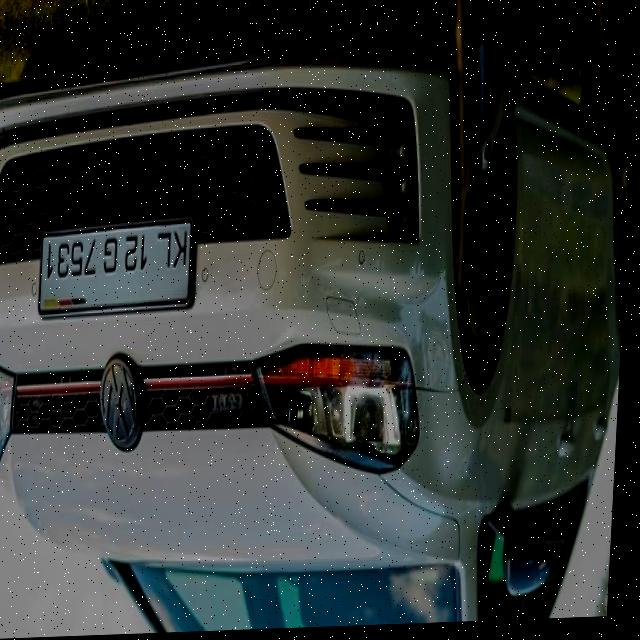plate: (43, 225, 194, 309)
